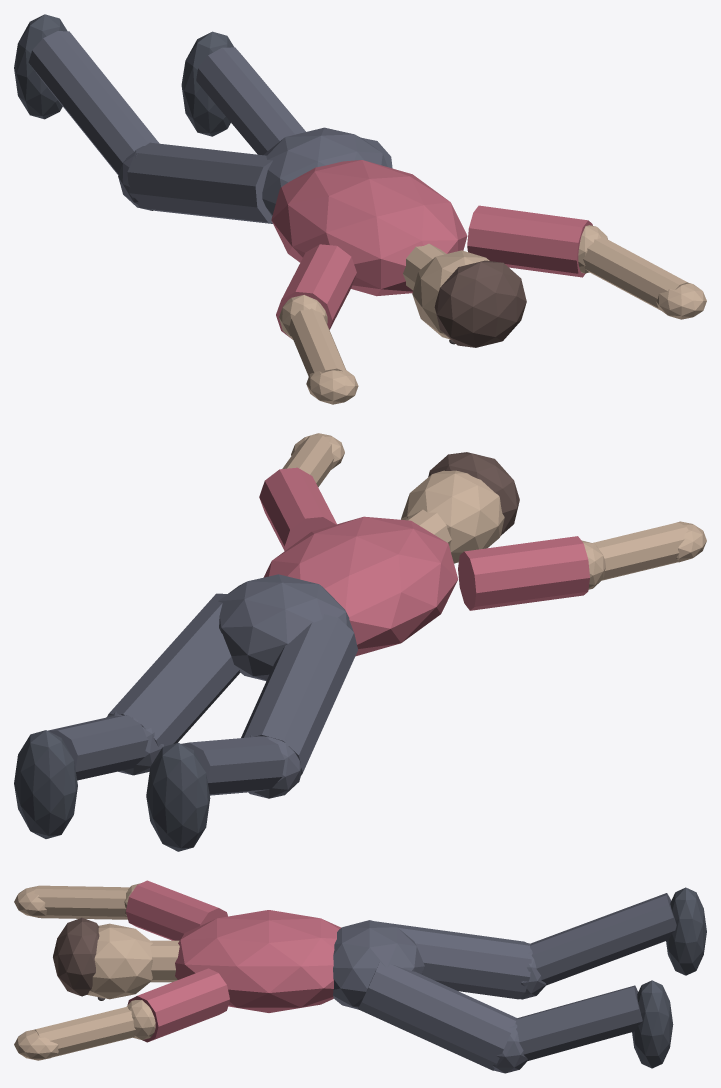
The picture shows the model from 3 angles, top to bottom: view 1: azimuth 30°, elevation 25°; view 2: azimuth 150°, elevation 25°; view 3: azimuth 270°, elevation 25°; orthographic projection. The views are drawn at different scales.
Parts seen in each view (by area): view 1: world; view 2: world; view 3: world.
Part boxes in pixels (x1,y1,x2,y2): world: (14,14,706,404); world: (14,433,706,851); world: (14,880,706,1073).
Bounding box in the file's own units: 1.17 × 0.4125 × 2.13.
